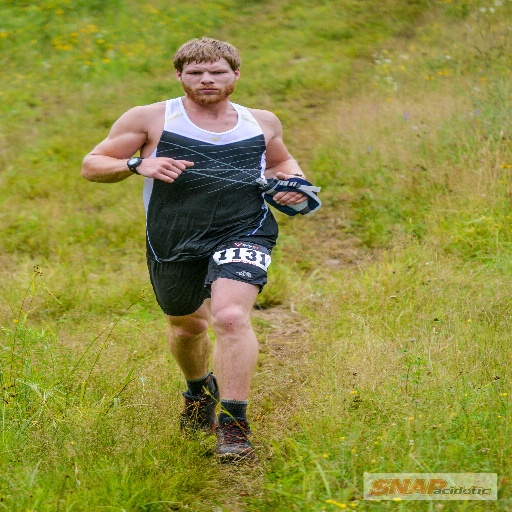hand: (262, 170, 313, 208), (135, 154, 196, 184)
